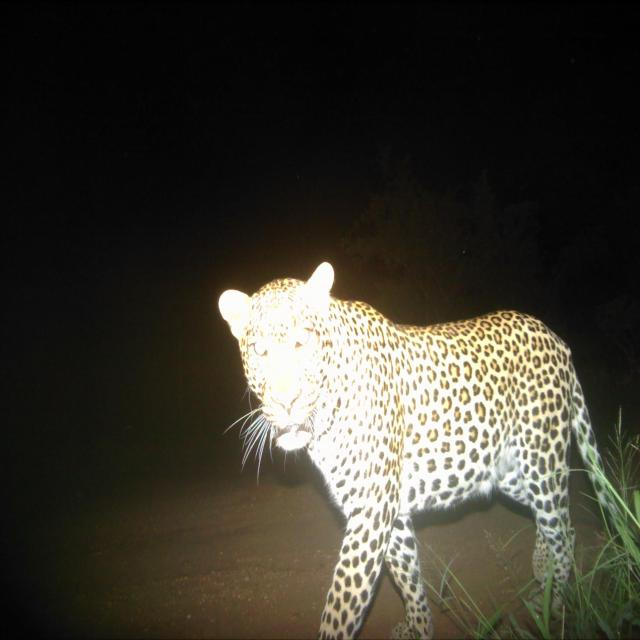Leopard: (214, 261, 620, 640)
